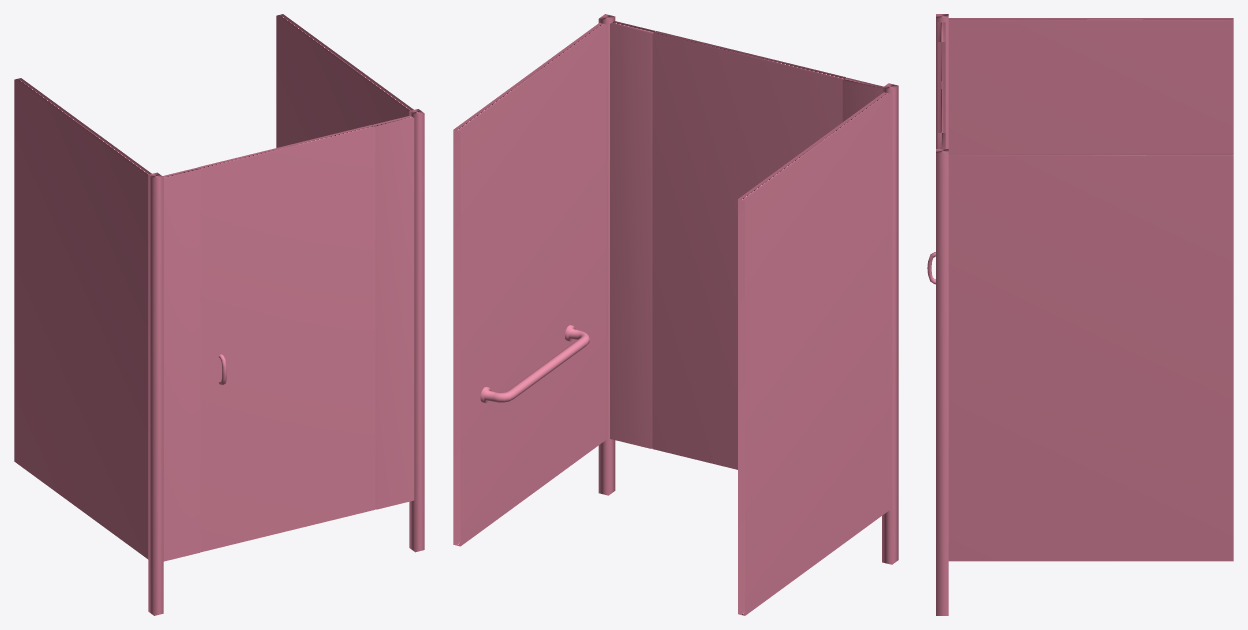
File: SM_Bathroom_Stall.fbx
3 views of the same model, side by side, from view 1: azimuth 30°, elevation 25°; view 2: azimuth 150°, elevation 25°; view 3: azimuth 270°, elevation 25° (orthographic). The views are drawn at different scales.
Parts seen in each view (by area): view 1: PM3D_Cylinder3D1_5; view 2: PM3D_Cylinder3D1_5; view 3: PM3D_Cylinder3D1_5.
Part boxes in pixels (box(x1,y1,x2,y2)): PM3D_Cylinder3D1_5: box(14, 14, 424, 615); PM3D_Cylinder3D1_5: box(453, 14, 898, 615); PM3D_Cylinder3D1_5: box(927, 14, 1233, 615).
Bounding box in the file's own units: 157 × 243 × 146.
